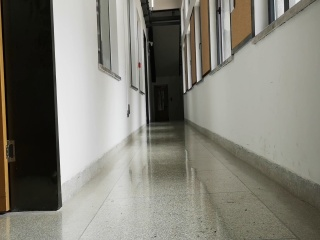room: (1, 2, 68, 215)
